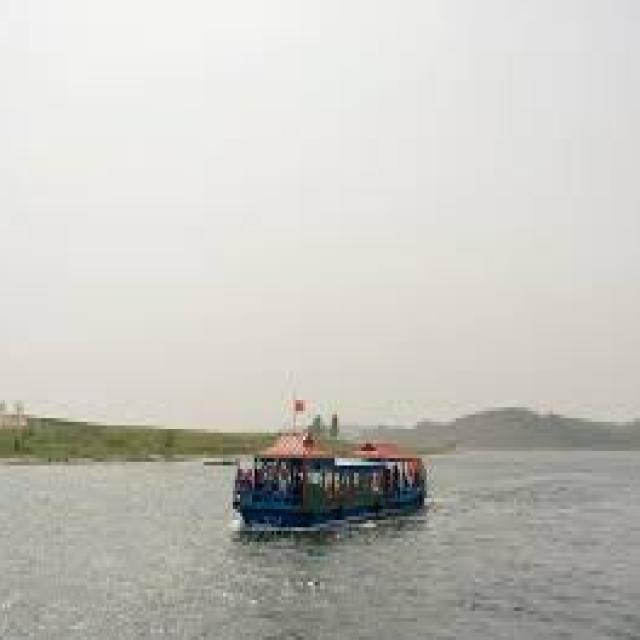fishing boat: (230, 392, 454, 532)
